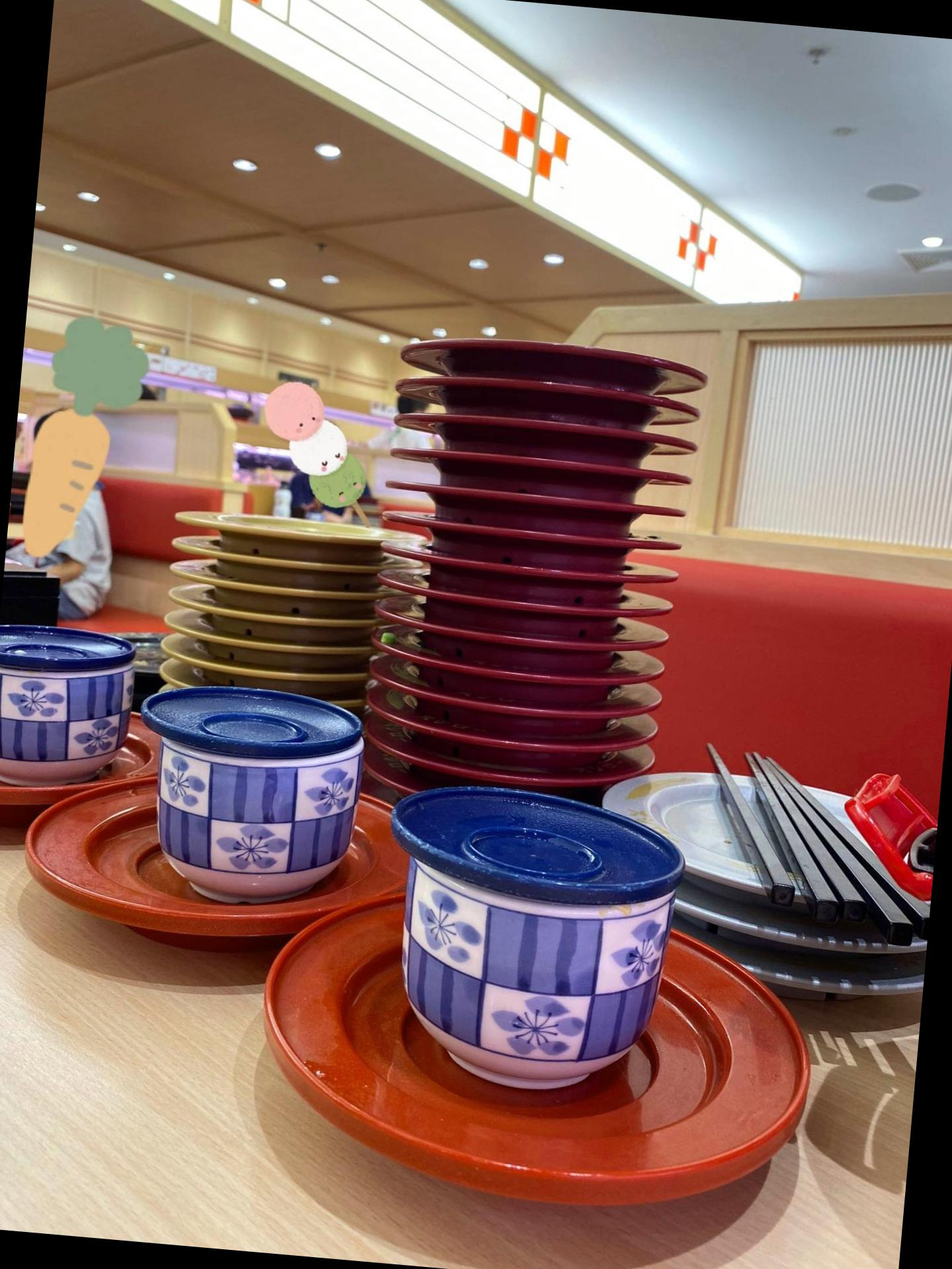Jangold: (170, 506, 381, 554), (173, 534, 371, 582), (175, 567, 374, 612), (177, 598, 367, 641), (176, 651, 363, 692), (180, 631, 360, 670)
Janred: (397, 314, 717, 390), (408, 367, 705, 425), (405, 405, 701, 456), (402, 442, 700, 492), (398, 512, 690, 563), (402, 546, 673, 598), (391, 673, 660, 725), (399, 479, 688, 527), (403, 614, 665, 662), (399, 582, 677, 627), (394, 646, 664, 692), (390, 739, 618, 788), (396, 715, 650, 756)
Janwhite: (645, 775, 858, 879), (708, 890, 930, 957), (767, 949, 925, 1000)
